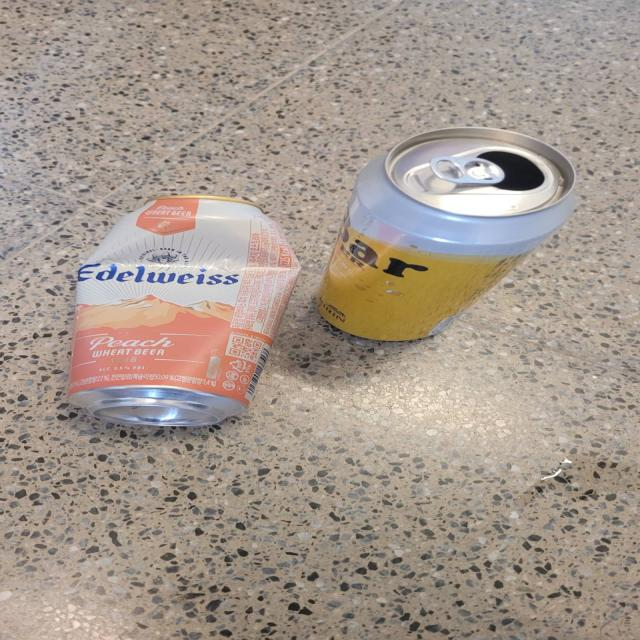Metal Cans: (302, 121, 623, 349), (56, 183, 298, 435)
